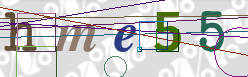5: (154, 10, 181, 52), (197, 9, 224, 51)
e: (113, 24, 137, 53)
h: (3, 11, 37, 52)
m: (55, 24, 96, 53)
